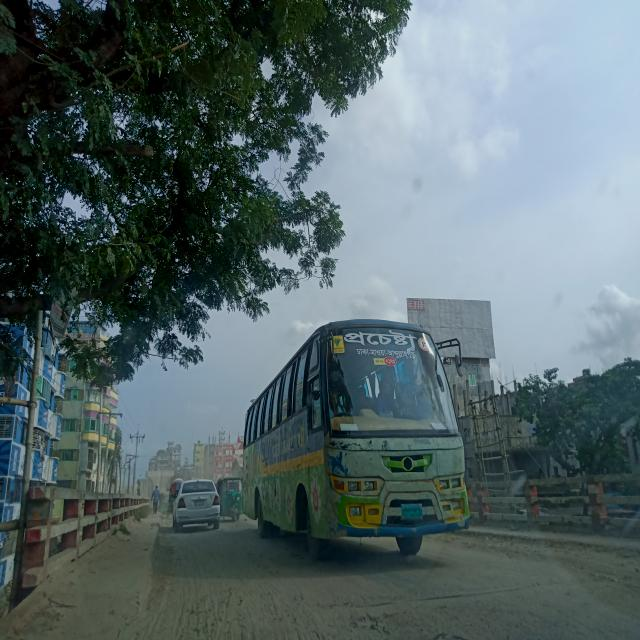bus: (242, 320, 471, 562)
